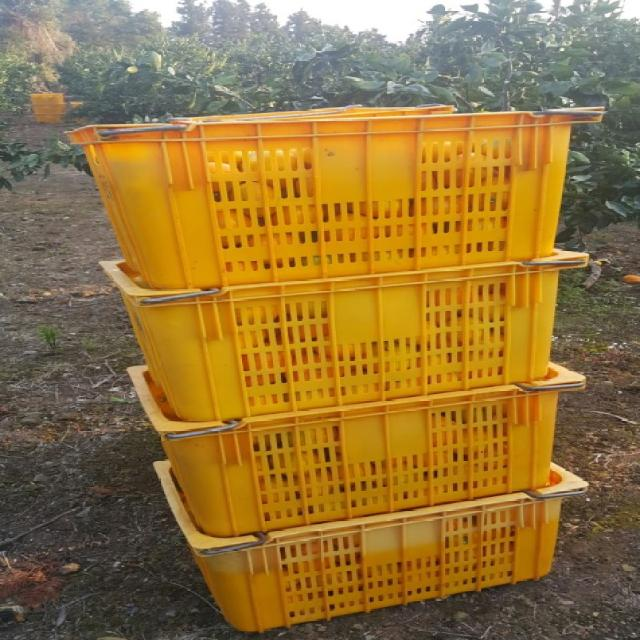basket: (68, 79, 616, 300), (102, 241, 593, 425), (129, 358, 588, 539), (152, 462, 586, 635)
